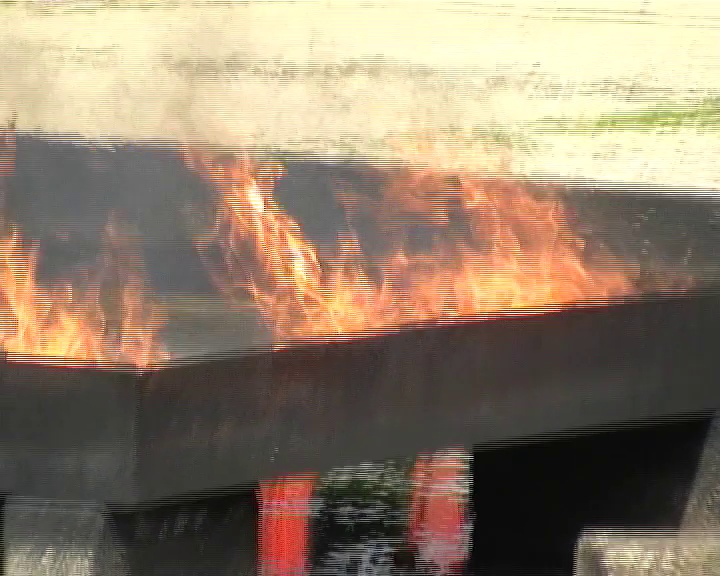fire: (184, 128, 633, 349), (1, 233, 161, 372)
